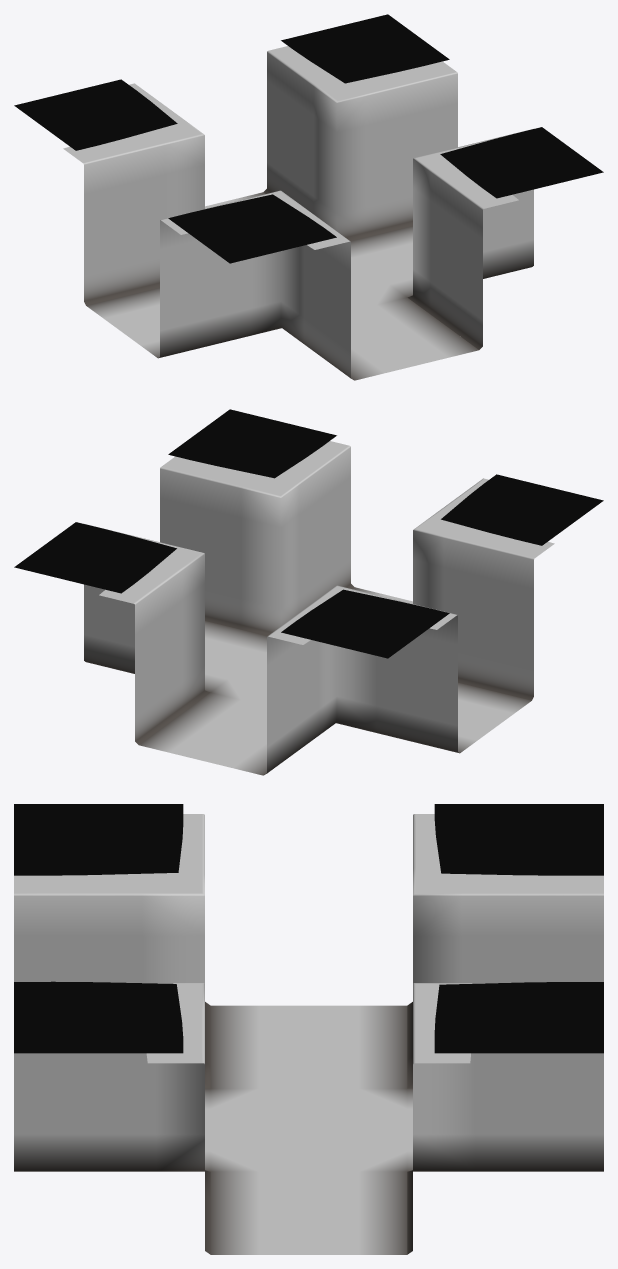
File: blockA.fbx
The picture shows the model from 3 angles, top to bottom: view 1: azimuth 30°, elevation 25°; view 2: azimuth 150°, elevation 25°; view 3: azimuth 270°, elevation 25°; orthographic projection. The views are drawn at different scales.
Parts seen in each view (by area): view 1: blockA7, pPlane1 (×4), blockA9, blockA8, blockA1, floorA; view 2: blockA1, pPlane1 (×4), blockA8, blockA9, blockA7, floorA; view 3: floorA, pPlane1 (×4), blockA1, blockA7, blockA8, blockA9.
Boxes of the visible parts, x1,y1,x2,y2 form: blockA7: (263, 46, 457, 241); pPlane1 (×4): (14, 14, 603, 263); blockA9: (158, 190, 352, 379); blockA8: (63, 83, 204, 305); blockA1: (407, 128, 534, 349); floorA: (86, 192, 478, 380); blockA1: (160, 441, 354, 636); pPlane1 (×4): (14, 409, 603, 658); blockA8: (265, 585, 459, 774); blockA9: (413, 478, 554, 700); blockA7: (83, 523, 210, 744); floorA: (139, 587, 531, 775); floorA: (205, 1005, 412, 1254); pPlane1 (×4): (14, 804, 603, 1053); blockA1: (14, 983, 210, 1254); blockA7: (407, 983, 603, 1254); blockA8: (407, 814, 603, 1088); blockA9: (14, 814, 210, 1088).
Bounding box in the file's own units: 900 × 339 × 900.
